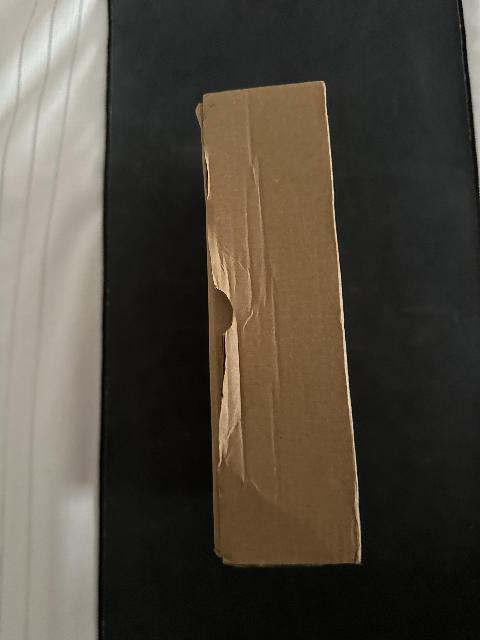Kagit: (189, 76, 371, 573)
